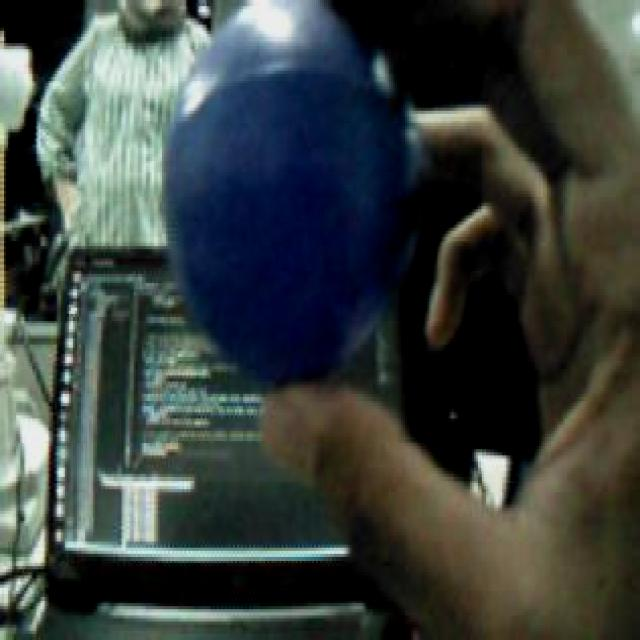BallPurple: (162, 3, 418, 386)
